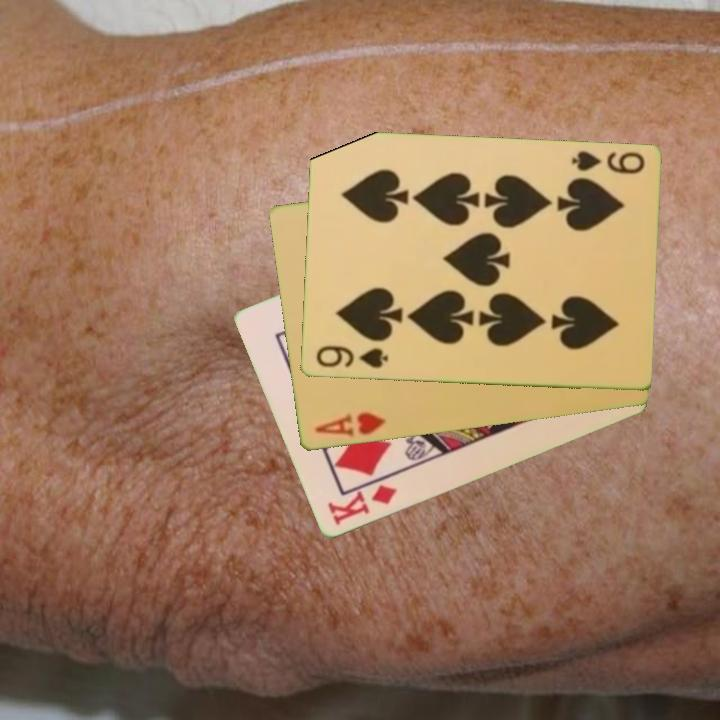9s: (312, 342, 391, 372), (567, 148, 647, 177)
Ah: (311, 409, 389, 440)
Kd: (324, 481, 400, 529)
